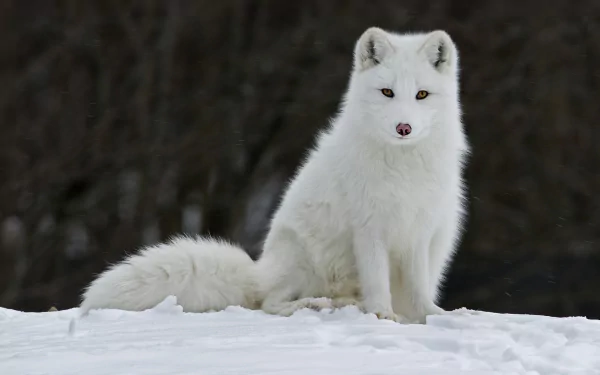arcticfox: (365, 59, 466, 179)
